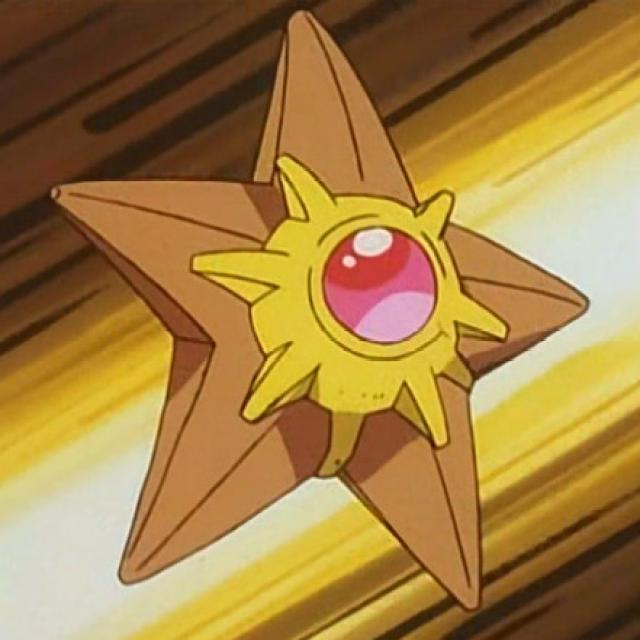Staryu: (37, 21, 591, 615)
